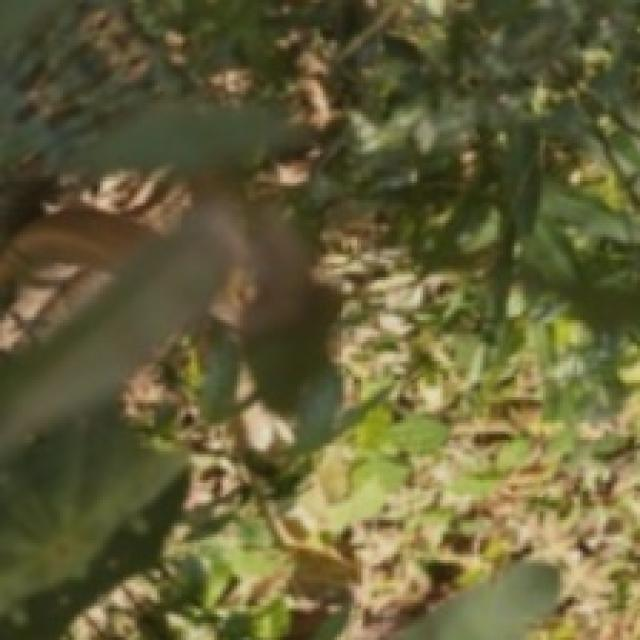king cobra: (0, 183, 246, 357)
